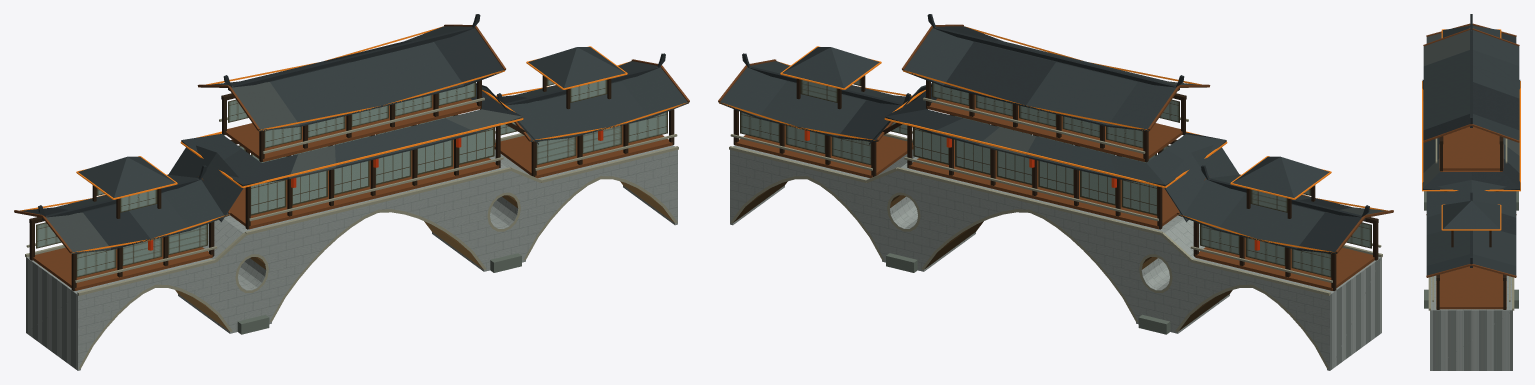
Rendered from jiuyan_covered_bridge.glb.
The picture shows the model from 3 angles, left to right: view 1: azimuth 30°, elevation 25°; view 2: azimuth 150°, elevation 25°; view 3: azimuth 270°, elevation 25°; orthographic projection. The views are drawn at different scales.
Parts seen in each view (by area): view 1: Stone_BridgeBody, Bridge_WingRoofs, Bridge_MainRoof, Bridge_WingGalleries, Bridge_MainLowerGallery, Bridge_LowerEaves, Bridge_MainUpperGallery, Bridge_EndPavilions, Bridge_DeckRims, Bridge_ArchBorders, Bridge_PierFeet, Bridge_RoundBorders; view 2: Stone_BridgeBody, Bridge_WingRoofs, Bridge_MainRoof, Bridge_WingGalleries, Bridge_MainLowerGallery, Bridge_LowerEaves, Bridge_MainUpperGallery, Bridge_EndPavilions, Bridge_DeckRims, Bridge_ArchBorders, Bridge_PierFeet, Bridge_RoundBorders; view 3: Bridge_MainRoof, Bridge_WingRoofs, Stone_BridgeBody, Bridge_WingGalleries, Bridge_LowerEaves, Bridge_MainUpperGallery, Bridge_EndPavilions, Bridge_PierFeet, Bridge_DeckRims, Bridge_MainLowerGallery.
Boxes of the visible parts, x1,y1,x2,y2 form: Stone_BridgeBody: (26, 145, 677, 370); Bridge_WingRoofs: (14, 53, 689, 253); Bridge_MainRoof: (197, 14, 505, 131); Bridge_WingGalleries: (26, 109, 677, 291); Bridge_MainLowerGallery: (229, 114, 503, 229); Bridge_LowerEaves: (180, 87, 523, 187); Bridge_MainUpperGallery: (219, 80, 484, 162); Bridge_EndPavilions: (76, 46, 627, 218); Bridge_DeckRims: (25, 133, 678, 295); Bridge_ArchBorders: (78, 176, 677, 368); Bridge_PierFeet: (237, 253, 521, 334); Bridge_RoundBorders: (235, 192, 520, 292); Stone_BridgeBody: (730, 145, 1381, 370); Bridge_WingRoofs: (718, 53, 1393, 253); Bridge_MainRoof: (902, 14, 1210, 131); Bridge_WingGalleries: (730, 109, 1381, 291); Bridge_MainLowerGallery: (904, 114, 1178, 229); Bridge_LowerEaves: (884, 87, 1227, 187); Bridge_MainUpperGallery: (923, 80, 1188, 162); Bridge_EndPavilions: (780, 46, 1331, 218); Bridge_DeckRims: (729, 133, 1382, 295); Bridge_ArchBorders: (730, 176, 1329, 368); Bridge_PierFeet: (886, 253, 1170, 334); Bridge_RoundBorders: (887, 192, 1172, 292); Bridge_MainRoof: (1423, 18, 1519, 142); Bridge_WingRoofs: (1426, 14, 1516, 277); Stone_BridgeBody: (1430, 275, 1512, 370); Bridge_WingGalleries: (1432, 266, 1510, 309); Bridge_LowerEaves: (1422, 80, 1520, 191); Bridge_MainUpperGallery: (1435, 126, 1507, 171); Bridge_EndPavilions: (1441, 26, 1501, 247); Bridge_PierFeet: (1424, 191, 1518, 308); Bridge_DeckRims: (1428, 277, 1514, 310); Bridge_MainLowerGallery: (1440, 170, 1502, 171).
Size of the model in its own units: 25.06 by 8.93 by 4.3.
12 materials, 12 textured.
